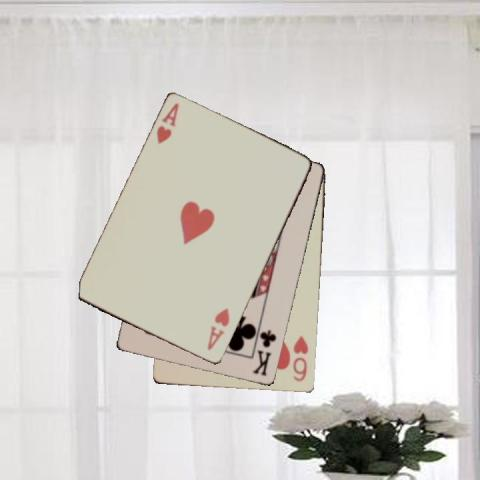6h: (290, 333, 310, 384)
Ah: (153, 100, 181, 146), (204, 305, 231, 352)
Kc: (250, 328, 278, 378)
